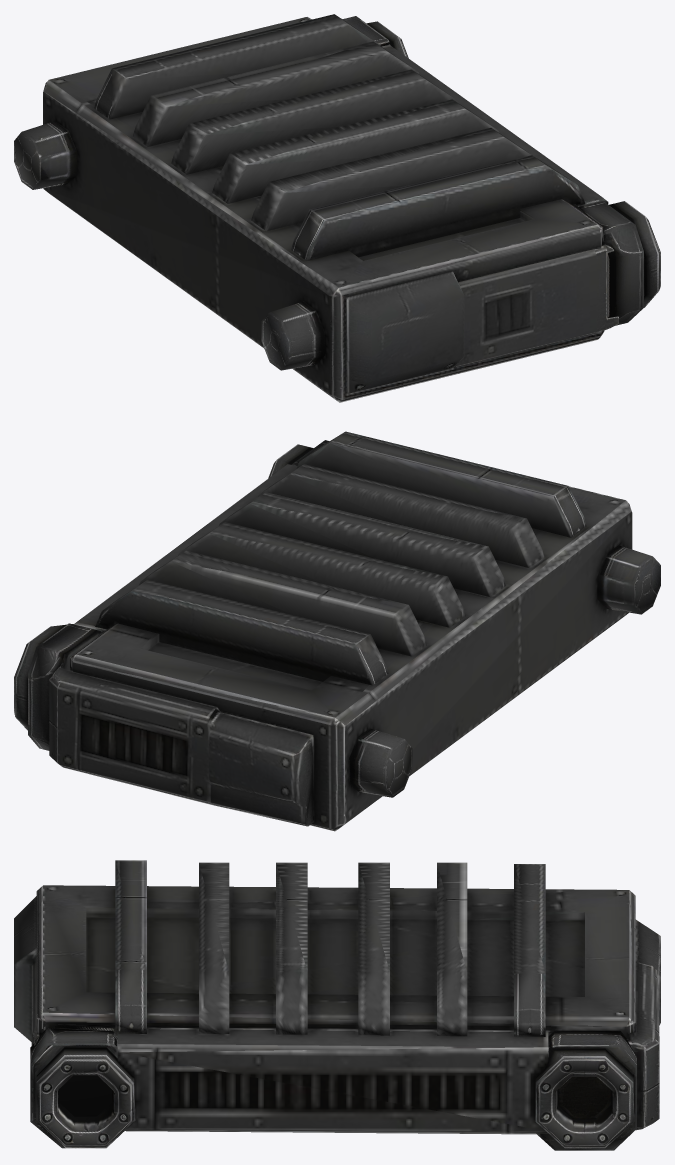
Rendered from cold-iron-v2-heatsink-c-cooling-plate.glb.
3 renders of one model, top to bottom at view 1: azimuth 30°, elevation 25°; view 2: azimuth 150°, elevation 25°; view 3: azimuth 270°, elevation 25°, orthographic.
Parts seen in each view (by area): view 1: tripo_node_e9d25400-7287-45b4-b786-95d3a9a1b88f; view 2: tripo_node_e9d25400-7287-45b4-b786-95d3a9a1b88f; view 3: tripo_node_e9d25400-7287-45b4-b786-95d3a9a1b88f.
Boxes of the visible parts, x1,y1,x2,y2 form: tripo_node_e9d25400-7287-45b4-b786-95d3a9a1b88f: (14,14,660,402); tripo_node_e9d25400-7287-45b4-b786-95d3a9a1b88f: (14,431,660,831); tripo_node_e9d25400-7287-45b4-b786-95d3a9a1b88f: (14,860,660,1150).
Size of the model in its own units: 0.6543 by 0.2637 by 0.998.
1 material, 1 textured.
